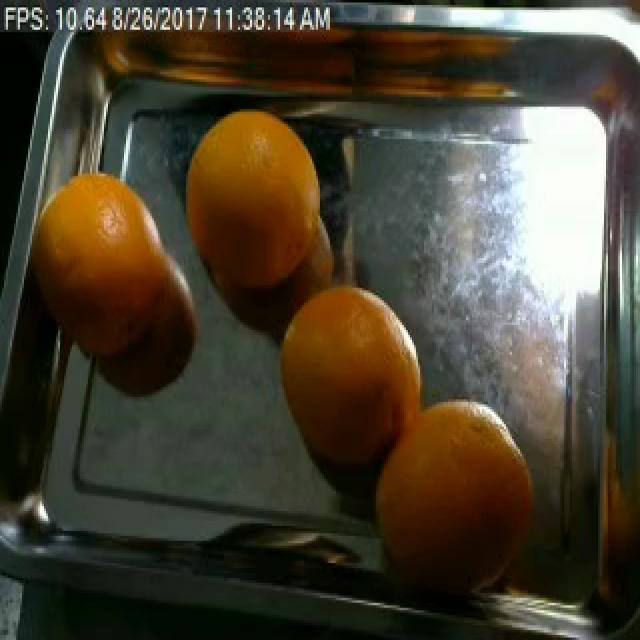Fruit: (164, 94, 344, 318), (264, 273, 434, 479), (36, 223, 218, 412)
